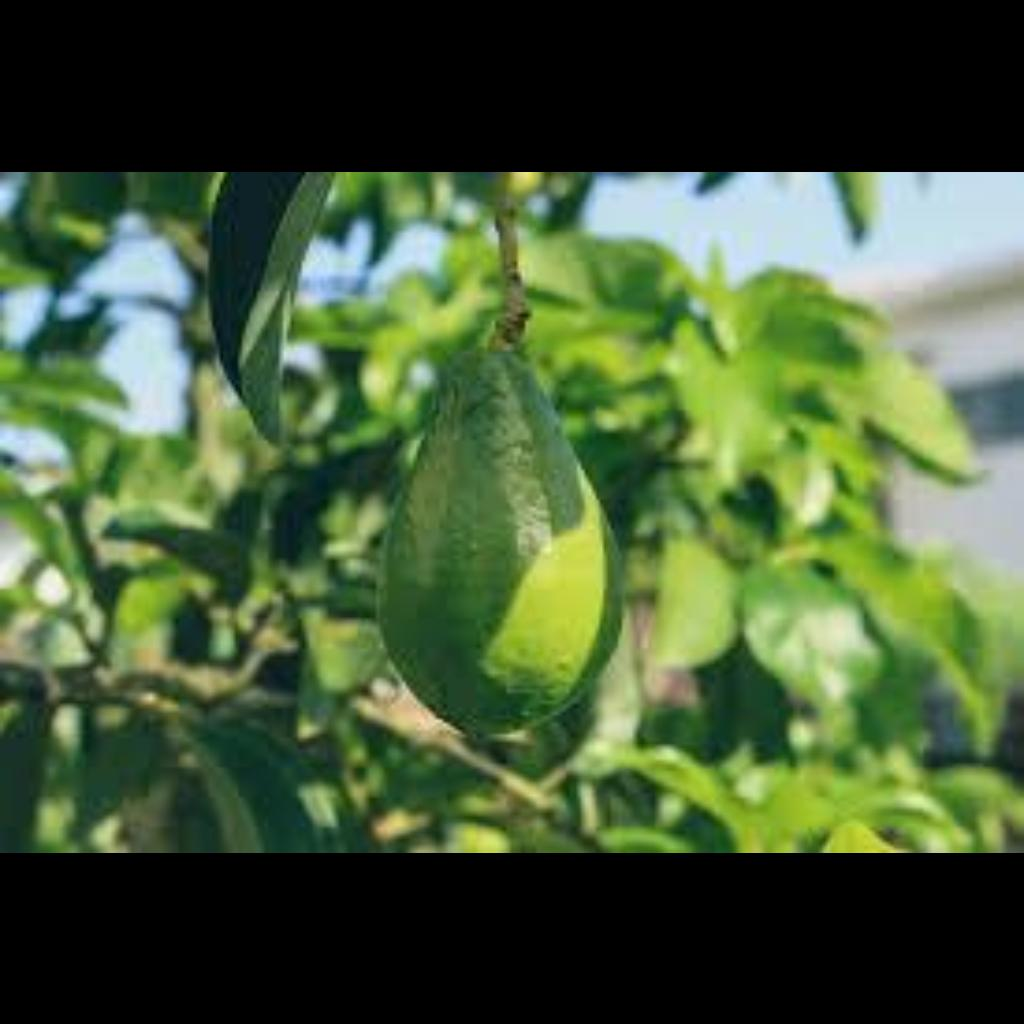cercospora_spot: (369, 340, 633, 750)
